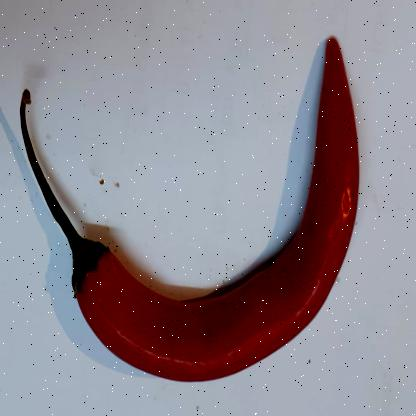chili: (14, 35, 360, 382)
